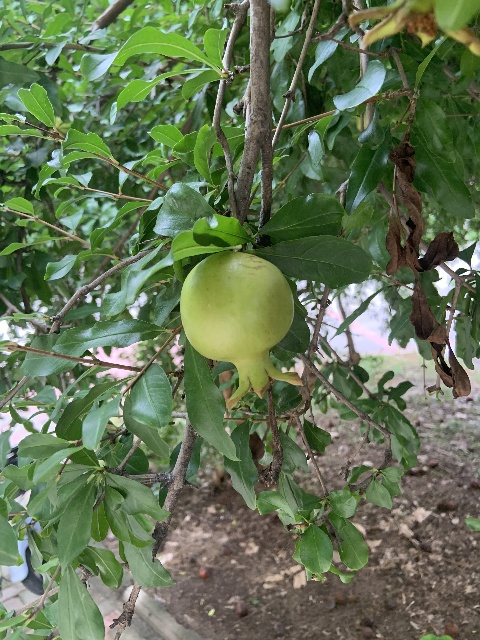mid-growth: (180, 250, 304, 413)
